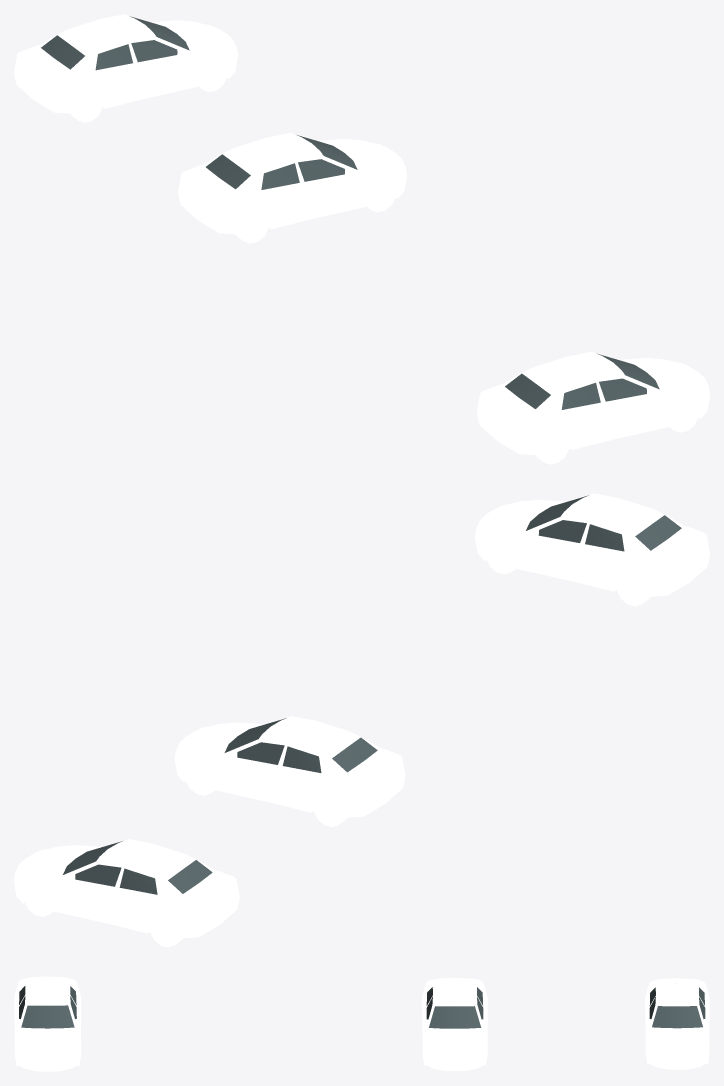
File: 充电中车辆.glb
3 views of the same model, one above another, from view 1: azimuth 30°, elevation 25°; view 2: azimuth 150°, elevation 25°; view 3: azimuth 270°, elevation 25° (orthographic). The views are drawn at different scales.
Visible parts, largest first — view 1: 充电中1, 充电中2, 充电中3; view 2: 充电中1, 充电中2, 充电中3; view 3: 充电中1, 充电中2, 充电中3.
Boxes of the visible parts, x1,y1,x2,y2 form: 充电中1: (477, 351, 709, 464); 充电中2: (178, 133, 406, 243); 充电中3: (14, 14, 237, 122); 充电中1: (475, 493, 709, 606); 充电中2: (174, 716, 405, 826); 充电中3: (14, 839, 239, 947); 充电中1: (14, 976, 81, 1071); 充电中2: (421, 977, 487, 1070); 充电中3: (645, 978, 709, 1069).
Bounding box in the file's own units: 3.76 × 1.17 × 15.97.
Materials: 2 (1 with a texture image).
